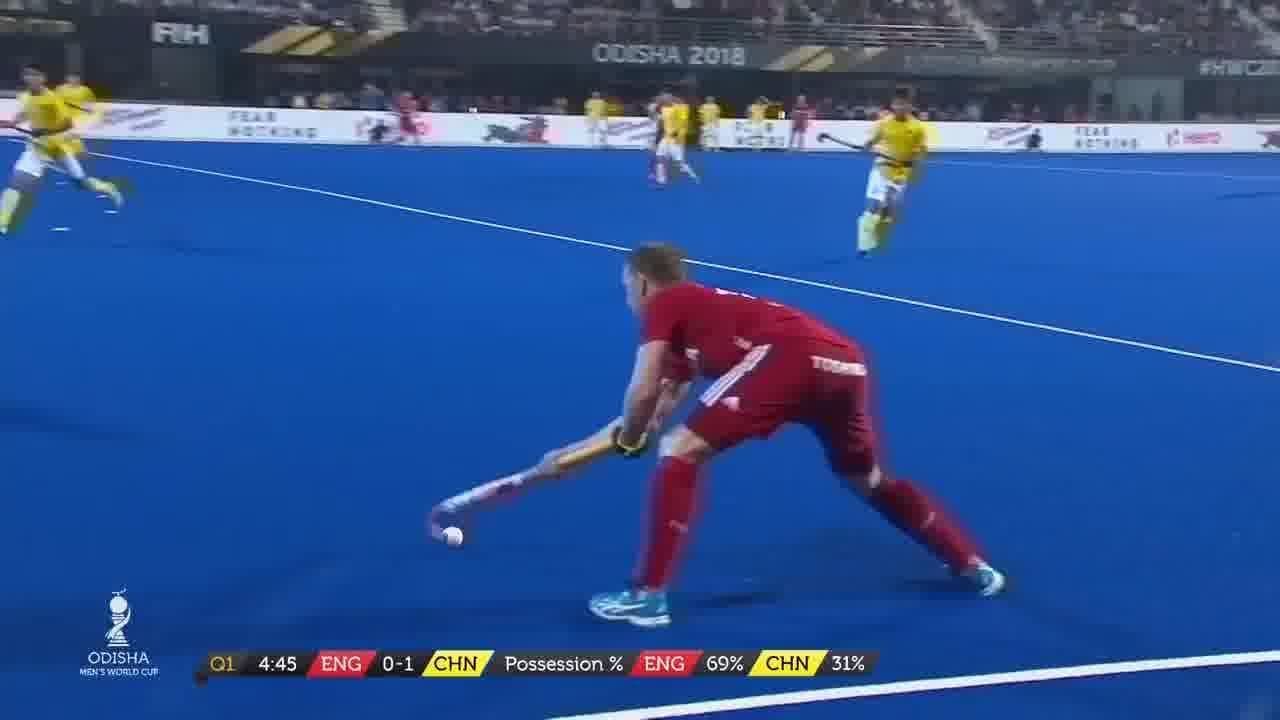ball: (432, 513, 476, 556)
